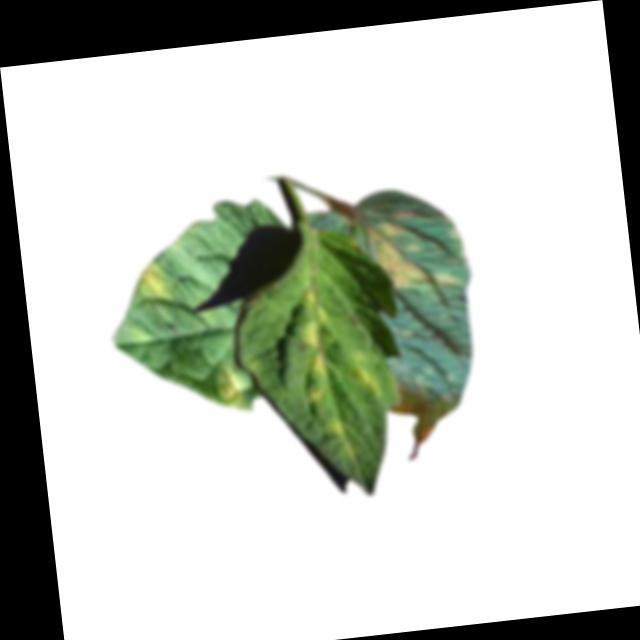Leaf_Mold: (294, 284, 352, 463), (363, 203, 464, 300), (130, 260, 175, 313), (346, 349, 386, 403), (212, 364, 251, 413)
